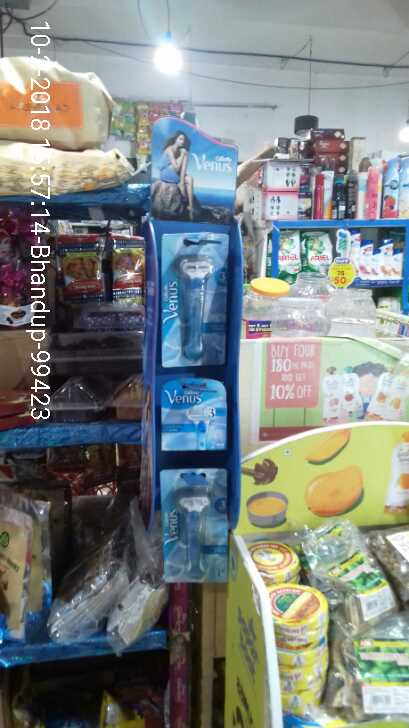beauty: (160, 231, 231, 368), (159, 470, 236, 586), (160, 377, 230, 455), (382, 240, 393, 278), (351, 230, 361, 270), (361, 241, 370, 278), (372, 249, 380, 279), (395, 245, 402, 279)
home: (302, 232, 332, 273), (383, 157, 400, 221), (277, 230, 300, 270)
